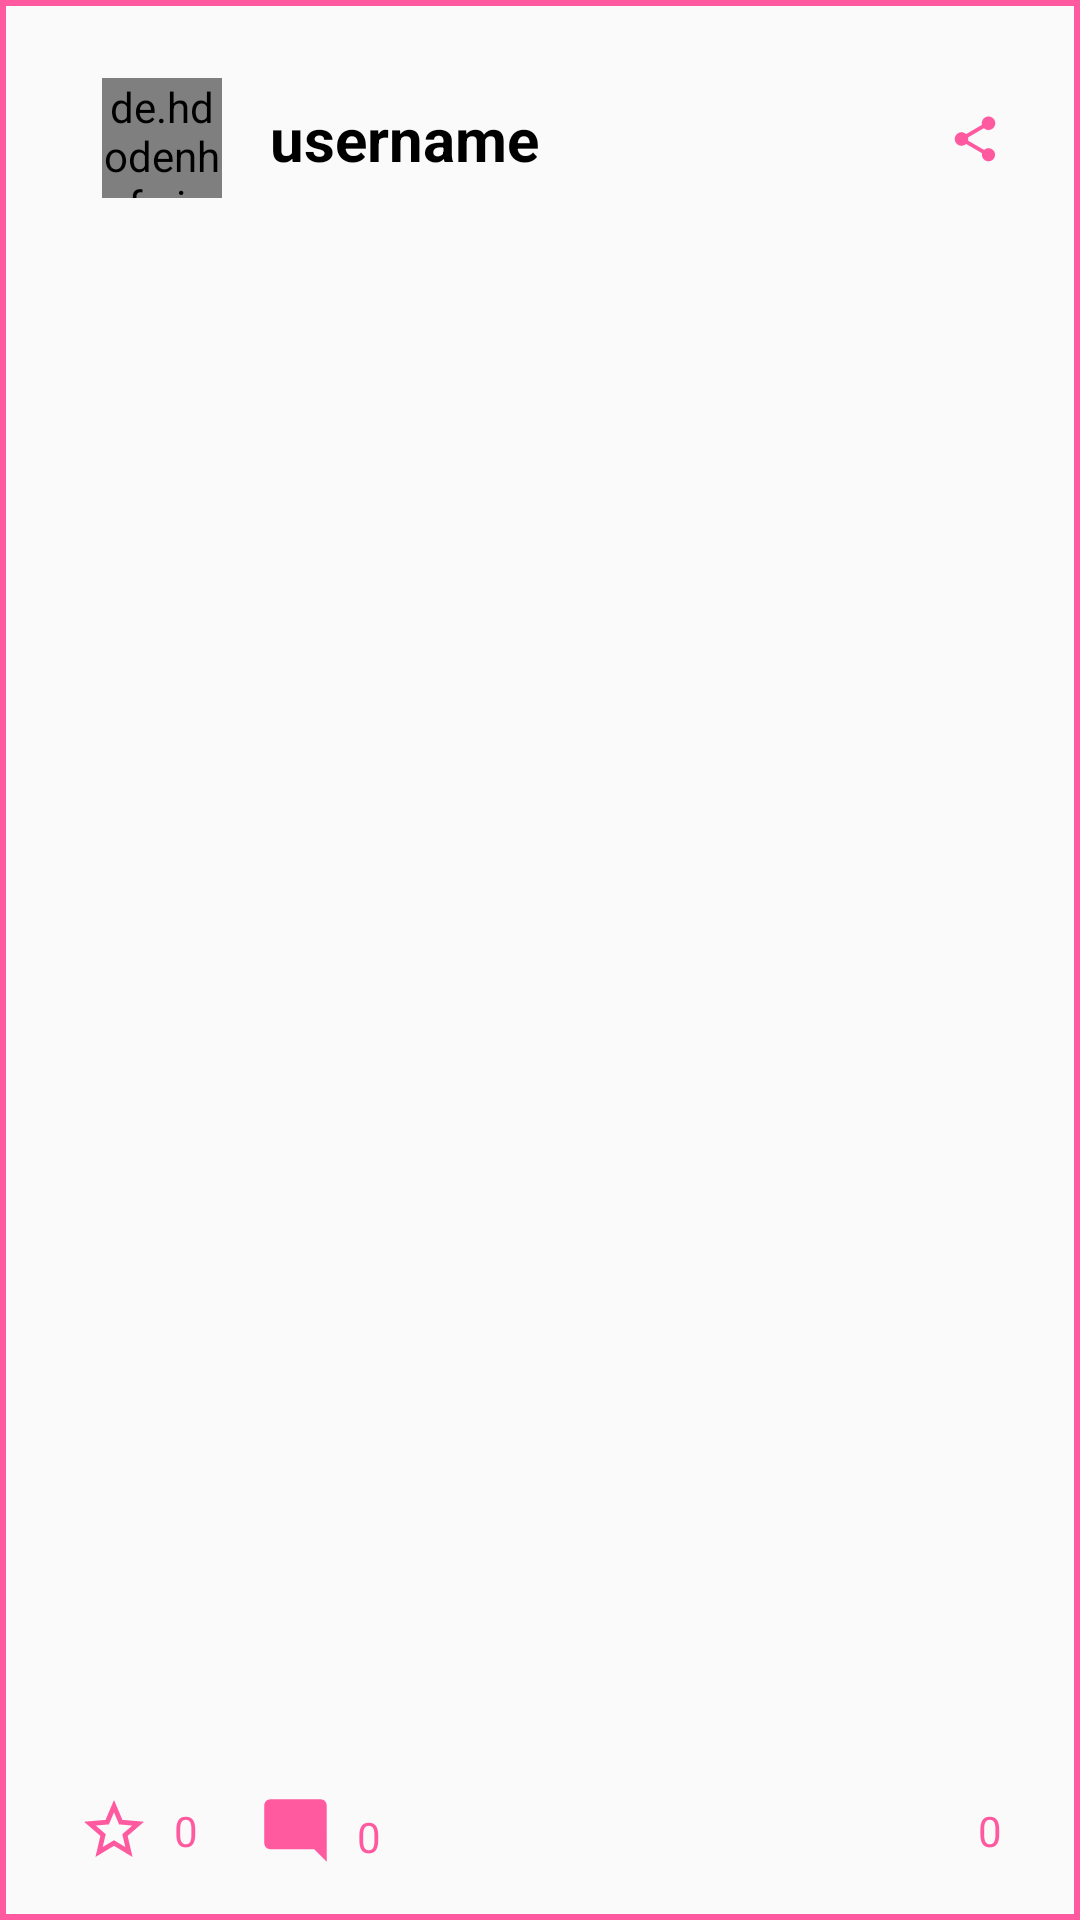

Locate icon controls on the screen. Image size 1080x1920, boxes as (x1, y1, x2, y2).
mode comment: (264, 1799, 327, 1862)
share: (954, 116, 996, 162)
star border: (84, 1800, 144, 1857)
